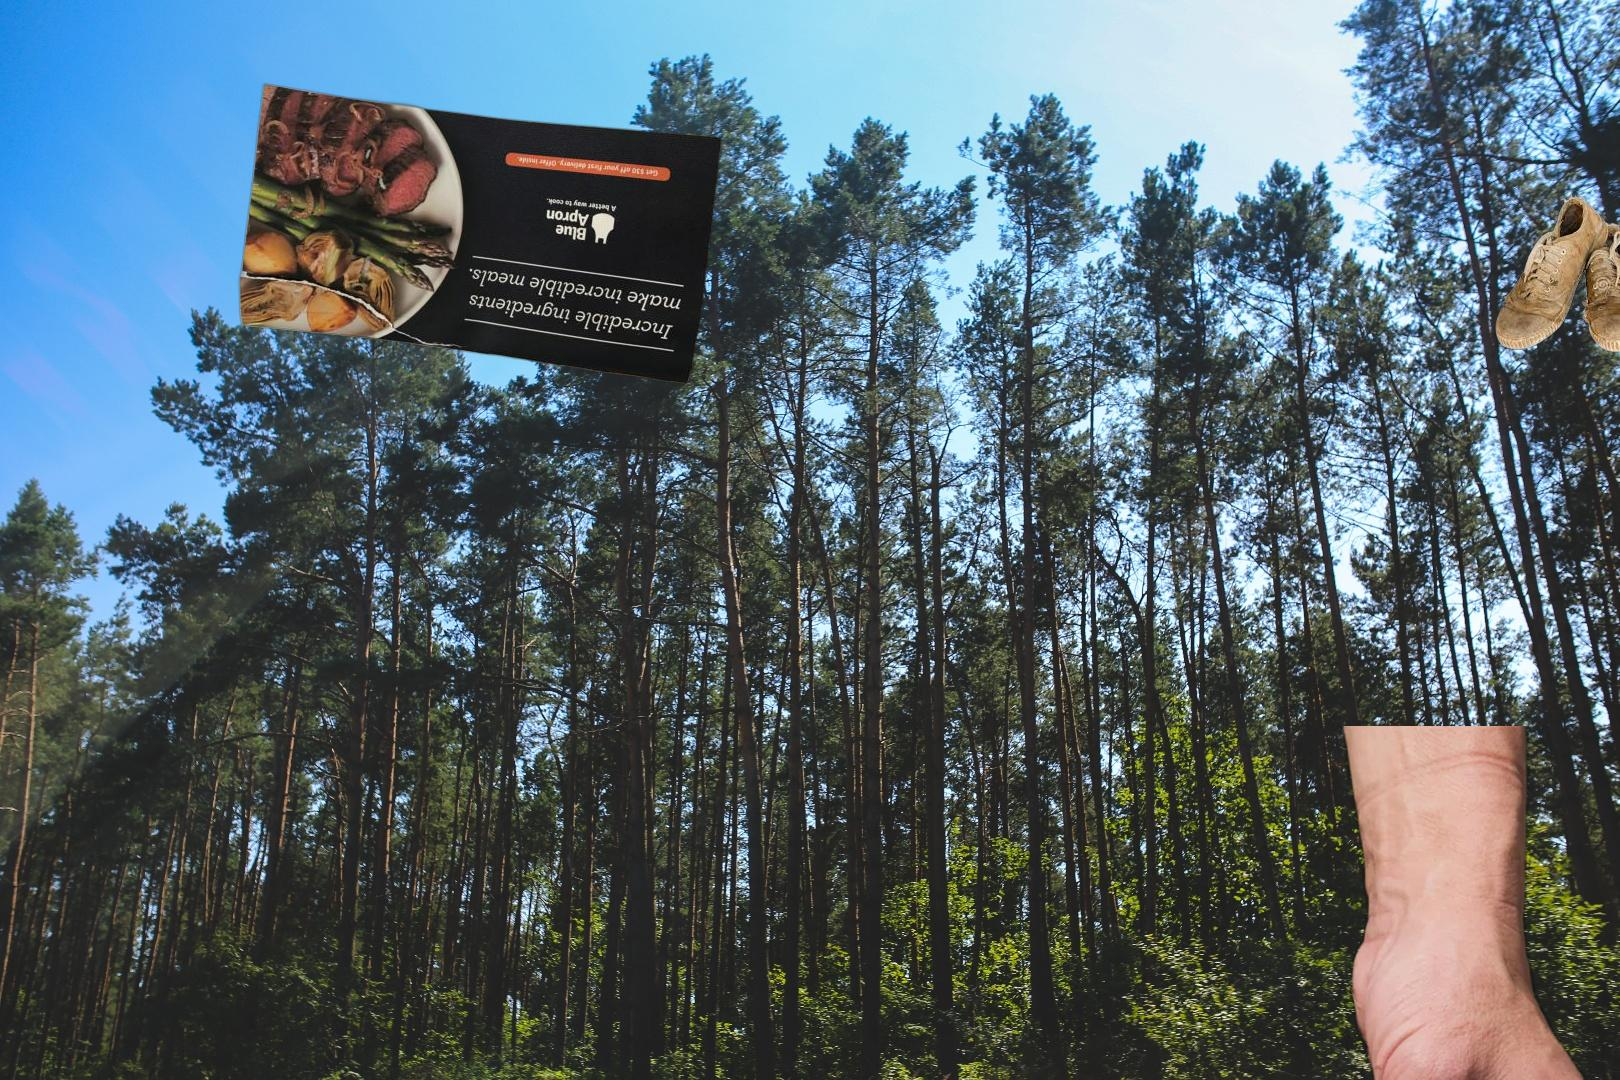paper: (235, 82, 725, 387)
shoes: (1492, 190, 1620, 355)
trashbox-cardboard: (993, 726, 1614, 1080)
